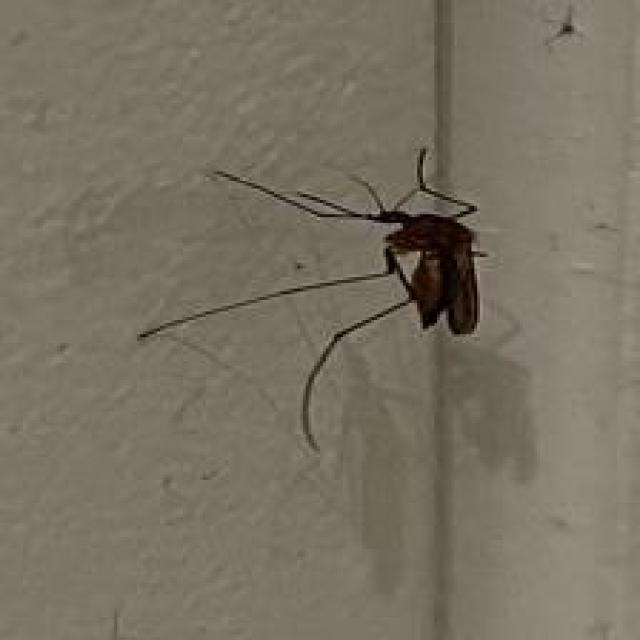Culex: (136, 146, 490, 454)
